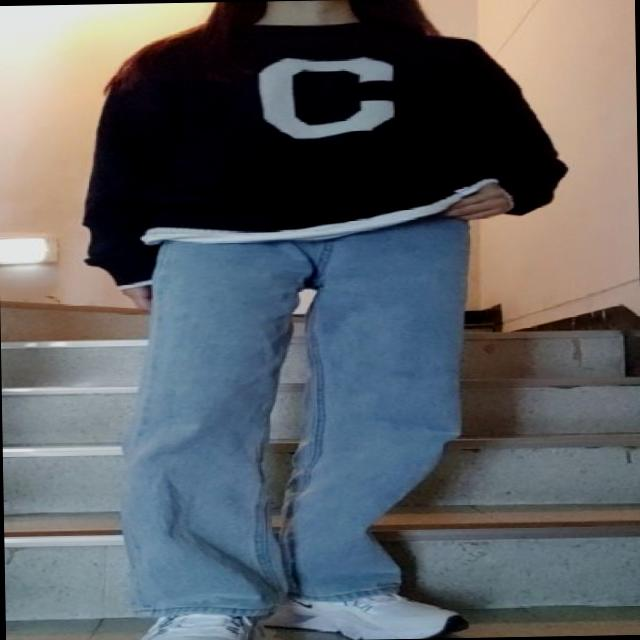denimpants: (109, 217, 474, 622)
sweater: (83, 11, 574, 291)
